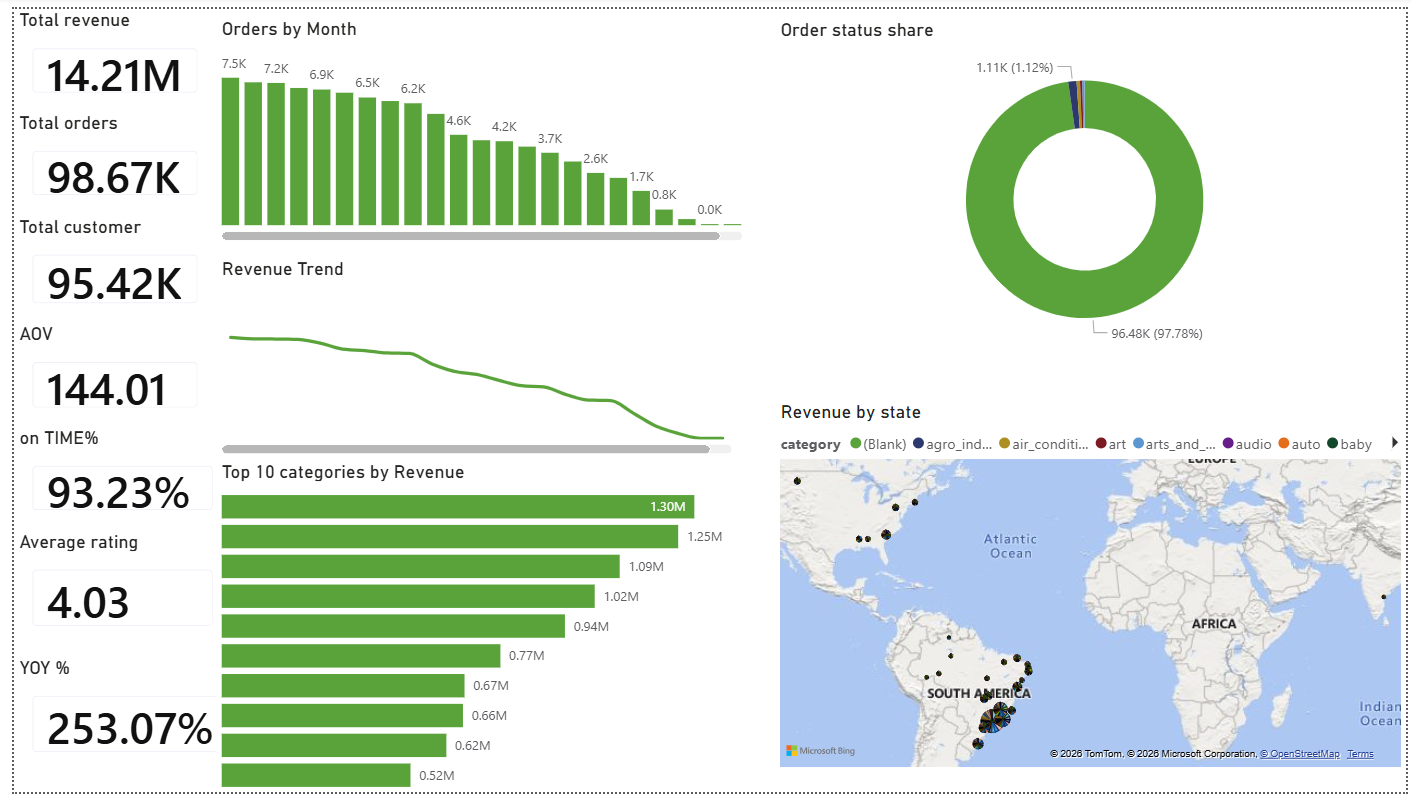

What the dashboard file says about the page in this screenshot:
{"tool":"powerbi","page":{"name":"Overview dashboard","canvas":[1280,720],"ordinal":0},"visuals":[{"type":"cardVisual","title":"Total revenue","fields":{"Data":["public bi_fact_sales.Revenue"]},"box":[0,0,186.6,94.7],"z":0},{"type":"cardVisual","title":"Total orders","fields":{"Data":["public bi_fact_sales.Orders"]},"box":[0,94.7,186.6,94.7],"z":1000},{"type":"cardVisual","title":"Total customer","fields":{"Data":["public bi_fact_sales.Customers"]},"box":[0,189.4,186.6,98.8],"z":2000},{"type":"cardVisual","title":"AOV","fields":{"Data":["public bi_fact_sales.AOV"]},"box":[0,288.2,186.6,96.1],"z":3000},{"type":"cardVisual","title":"on TIME%","fields":{"Data":["public bi_fact_sales.On-time %"]},"box":[0,384.2,200.3,94.7],"z":4000},{"type":"cardVisual","title":"Average rating","fields":{"Data":["public bi_fact_sales.Avg Rating"]},"box":[0,478.9,200.3,105.7],"z":5000},{"type":"cardVisual","title":"YOY %","fields":{"Data":["public bi_fact_sales.YoY %"]},"box":[0,595.5,214.1,105.7],"z":6000},{"type":"lineChart","title":"Revenue Trend","fields":{"Category":["DimDate.Year-Month"],"Y":["public bi_fact_sales.Revenue"]},"box":[186.6,229.2,478.9,185.2],"z":7000},{"type":"clusteredColumnChart","title":"Orders by Month","fields":{"Category":["DimDate.Year-Month"],"Y":["public bi_fact_sales.Orders"]},"box":[186.6,8.2,488.5,209.9],"z":8000},{"type":"barChart","title":"Top 10 categories by Revenue","fields":{"Category":["public bi_fact_sales.category"],"Y":["public bi_fact_sales.Revenue"]},"box":[186.6,414.4,478.9,306],"z":9000},{"type":"map","title":" Revenue by state","fields":{"Series":["public bi_fact_sales.category"],"Size":["public bi_fact_sales.Revenue"],"Category":["public bi_fact_sales.customer_state"]},"box":[699.8,359.5,580.4,341.7],"z":10000},{"type":"donutChart","title":"Order status share","fields":{"Y":["public bi_fact_sales.Orders"],"Category":["public bi_fact_sales.order_status"]},"box":[699.8,9.6,569.5,312.9],"z":11000}]}

Visuals, with their boxes in screenshot pixels (x1, y1, x2, y2), scaled from the page's 1280x720 canvas onto the 1411x801 screenshot:
"Total revenue" cardVisual: 0, 0, 206, 105
"Total orders" cardVisual: 0, 105, 206, 211
"Total customer" cardVisual: 0, 211, 206, 321
"AOV" cardVisual: 0, 321, 206, 428
"on TIME%" cardVisual: 0, 427, 221, 533
"Average rating" cardVisual: 0, 533, 221, 650
"YOY %" cardVisual: 0, 662, 236, 780
"Revenue Trend" lineChart: 206, 255, 734, 461
"Orders by Month" clusteredColumnChart: 206, 9, 744, 243
"Top 10 categories by Revenue" barChart: 206, 461, 734, 800
" Revenue by state" map: 771, 400, 1410, 780
"Order status share" donutChart: 771, 11, 1399, 359
